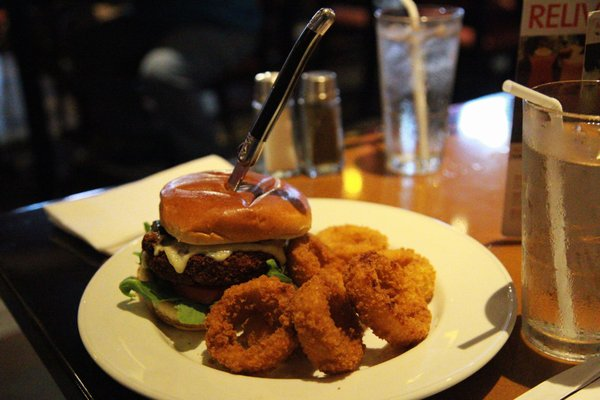pizza: (508, 76, 600, 363), (375, 2, 465, 176)
sandwich: (227, 10, 337, 191)
soup: (134, 169, 313, 314)
